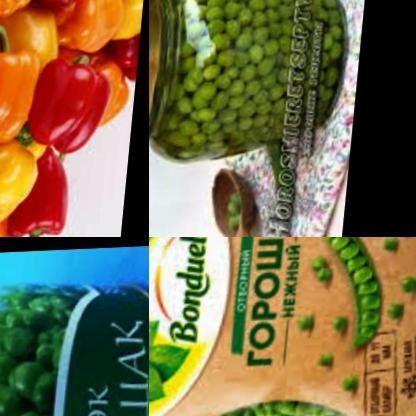bell pepper: (0, 0, 149, 237)
peas: (163, 0, 353, 166), (0, 270, 93, 416), (310, 237, 385, 347), (205, 391, 365, 416), (290, 334, 347, 383), (271, 143, 296, 215), (331, 369, 369, 405), (216, 199, 250, 237), (373, 306, 416, 330), (305, 259, 338, 290), (292, 317, 325, 347), (377, 237, 405, 262), (396, 280, 416, 302), (337, 316, 354, 339)
